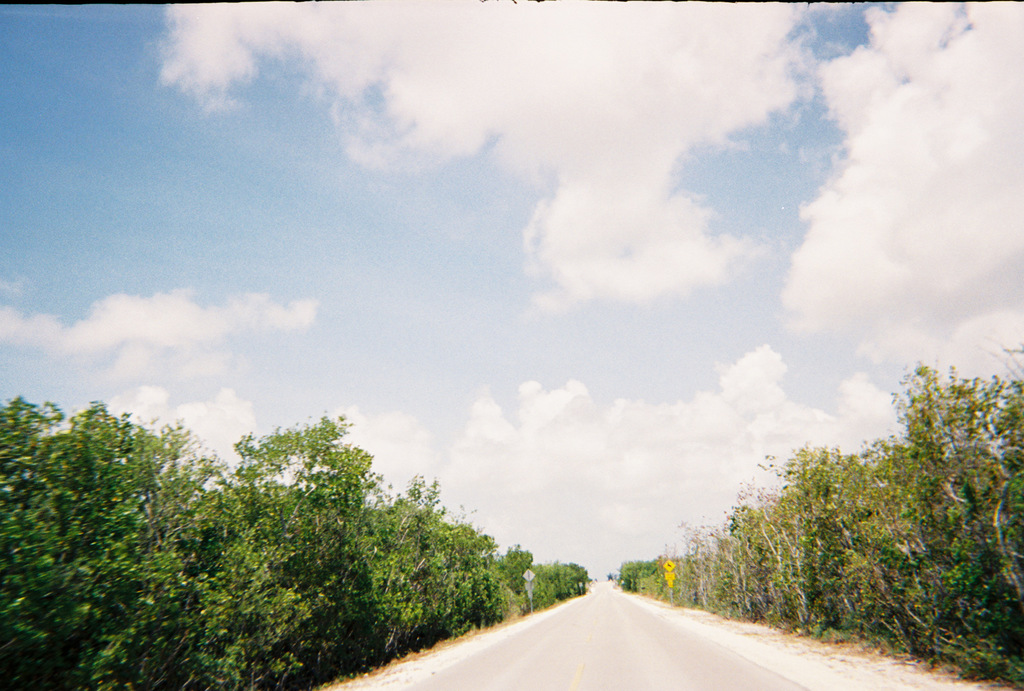Tree: (0, 392, 591, 690), (686, 366, 1007, 643), (607, 554, 684, 603)
